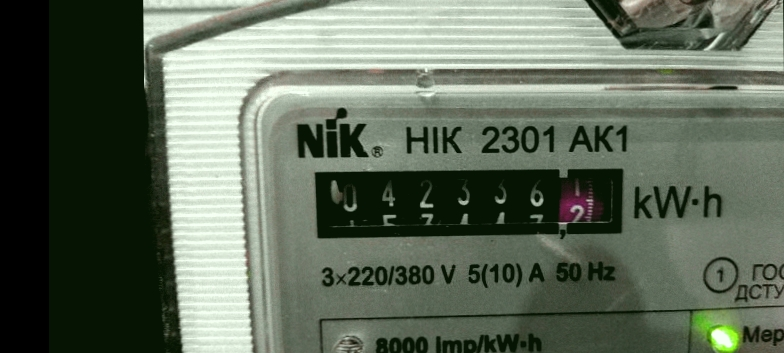0: (340, 180, 359, 213)
1: (570, 172, 582, 198)
2: (416, 175, 437, 210), (567, 203, 584, 224)
3: (453, 174, 471, 206), (492, 174, 509, 206)
4: (380, 176, 397, 208)
6: (527, 175, 547, 209)
screen: (302, 154, 637, 249)
